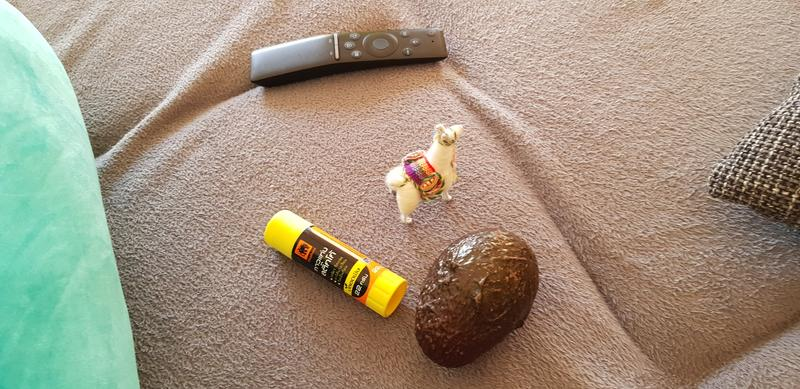Avocado: (414, 228, 543, 370)
Glue-Stick: (259, 202, 411, 321)
Horse-Toy: (381, 117, 478, 225)
